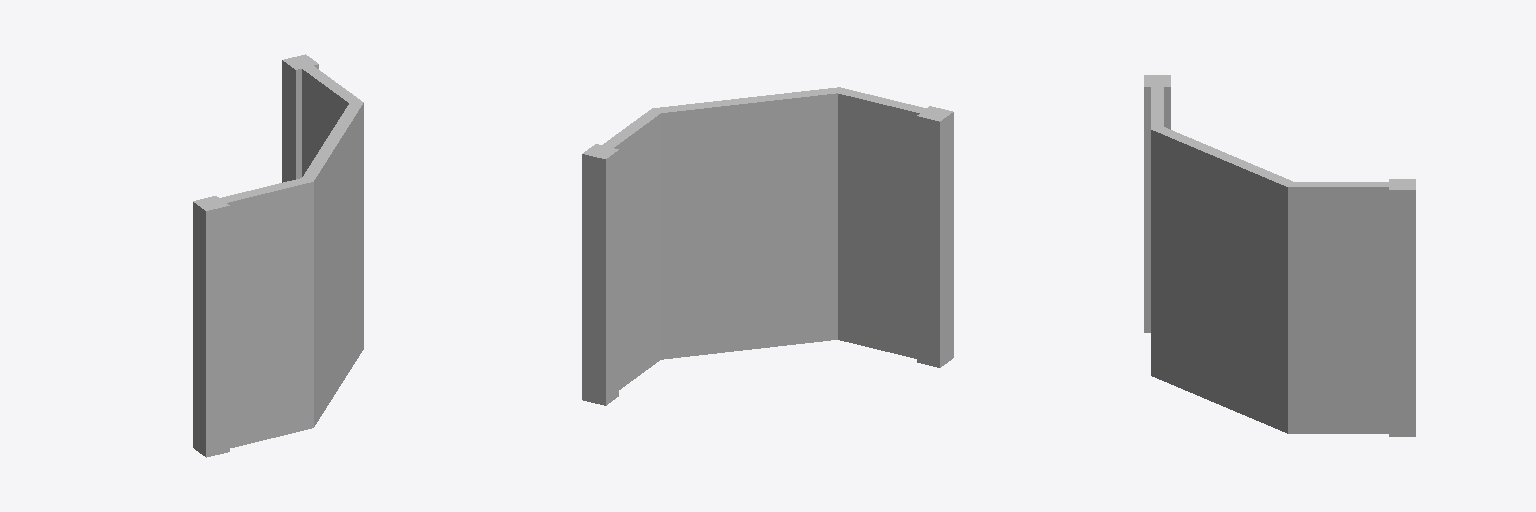
The model's file is wall-corner-diagonal.obj.
3 renders of one model, left to right at view 1: azimuth 30°, elevation 25°; view 2: azimuth 150°, elevation 25°; view 3: azimuth 270°, elevation 25°, orthographic.
Parts seen in each view (by area): view 1: wall-corner-diagonal; view 2: wall-corner-diagonal; view 3: wall-corner-diagonal.
Part boxes in pixels (x1,y1,x2,y2): wall-corner-diagonal: (193, 54, 363, 457); wall-corner-diagonal: (582, 87, 953, 405); wall-corner-diagonal: (1144, 75, 1415, 436).
Bounding box in the file's own units: 1 × 1 × 1.